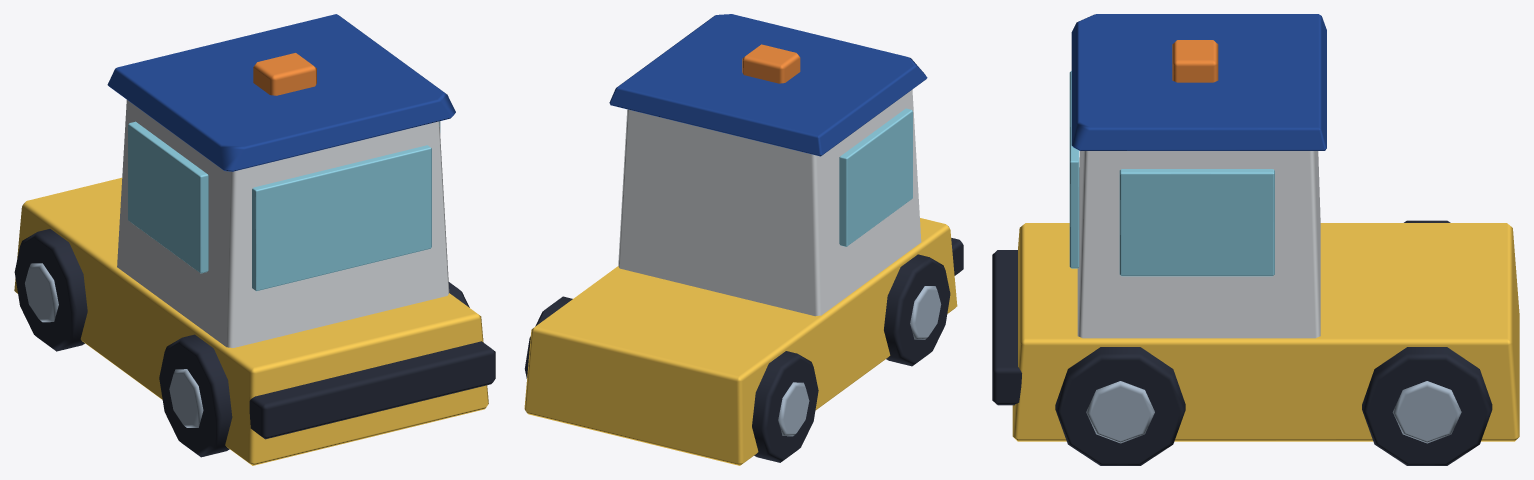
The model's file is tractor.glb.
3 renders of one model, left to right at view 1: azimuth 30°, elevation 25°; view 2: azimuth 150°, elevation 25°; view 3: azimuth 270°, elevation 25°, orthographic. The views are drawn at different scales.
Parts seen in each view (by area): view 1: tractor; view 2: tractor; view 3: tractor.
Part boxes in pixels (x1,y1,x2,y2): tractor: [14, 14, 495, 465]; tractor: [524, 14, 963, 465]; tractor: [992, 14, 1519, 465].
Size of the model in its own units: 1.75 by 2.01 by 2.75.
